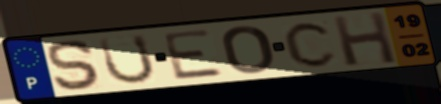C: (281, 19, 340, 69)
E: (160, 27, 227, 82)
H: (329, 9, 401, 68)
O: (219, 24, 277, 76)
S: (46, 38, 105, 92)
U: (96, 33, 158, 87)
